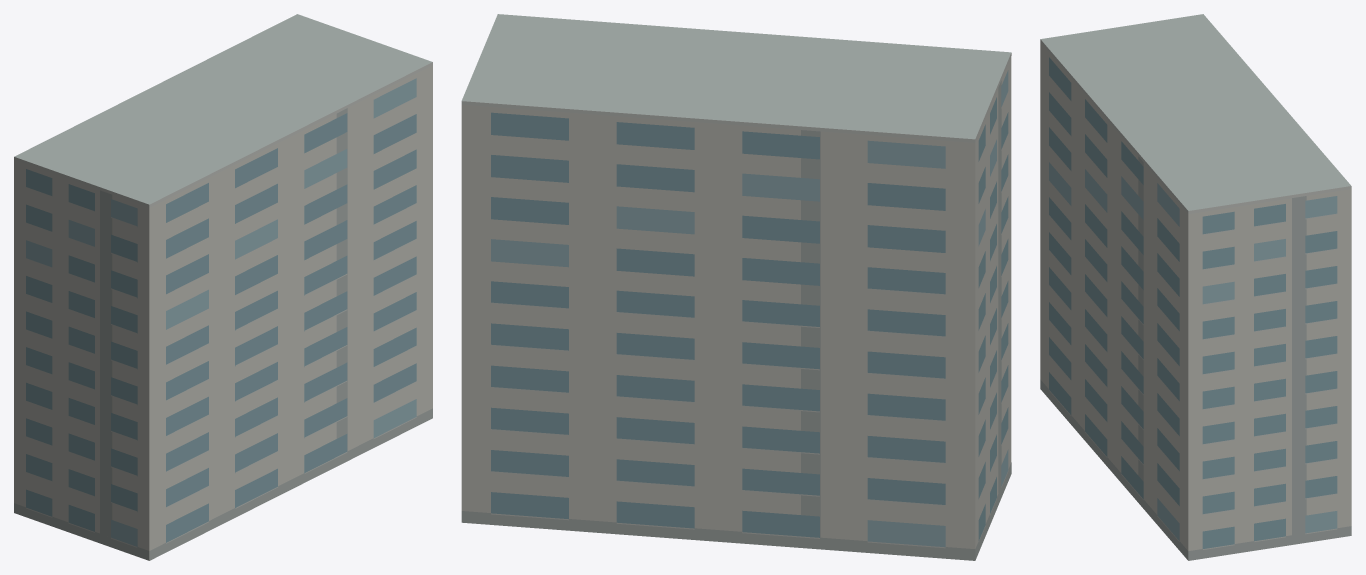
The model's file is residential-08673925-0110-414f-8971-88eb1e8c9214.glb.
3 renders of one model, left to right at view 1: azimuth 30°, elevation 25°; view 2: azimuth 150°, elevation 25°; view 3: azimuth 270°, elevation 25°, orthographic. The views are drawn at different scales.
Parts seen in each view (by area): view 1: residential-08673925-0110-414f-8971-88eb1e8c9214.tmp; view 2: residential-08673925-0110-414f-8971-88eb1e8c9214.tmp; view 3: residential-08673925-0110-414f-8971-88eb1e8c9214.tmp.
Part boxes in pixels (left/top/right/bottom): residential-08673925-0110-414f-8971-88eb1e8c9214.tmp: left=14, top=14, right=432, bottom=560; residential-08673925-0110-414f-8971-88eb1e8c9214.tmp: left=461, top=14, right=1011, bottom=560; residential-08673925-0110-414f-8971-88eb1e8c9214.tmp: left=1040, top=14, right=1351, bottom=560.
Size of the model in its own units: 33.83 by 28 by 22.58.
